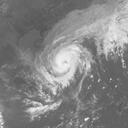cyclone: (47, 43, 85, 87)
